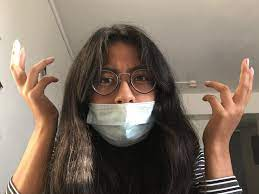mask_weared_incorrect: (84, 65, 160, 138)
